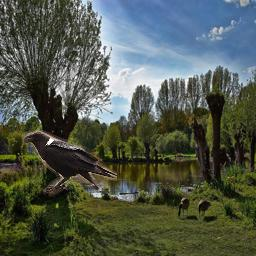Crow: (22, 130, 117, 197)
